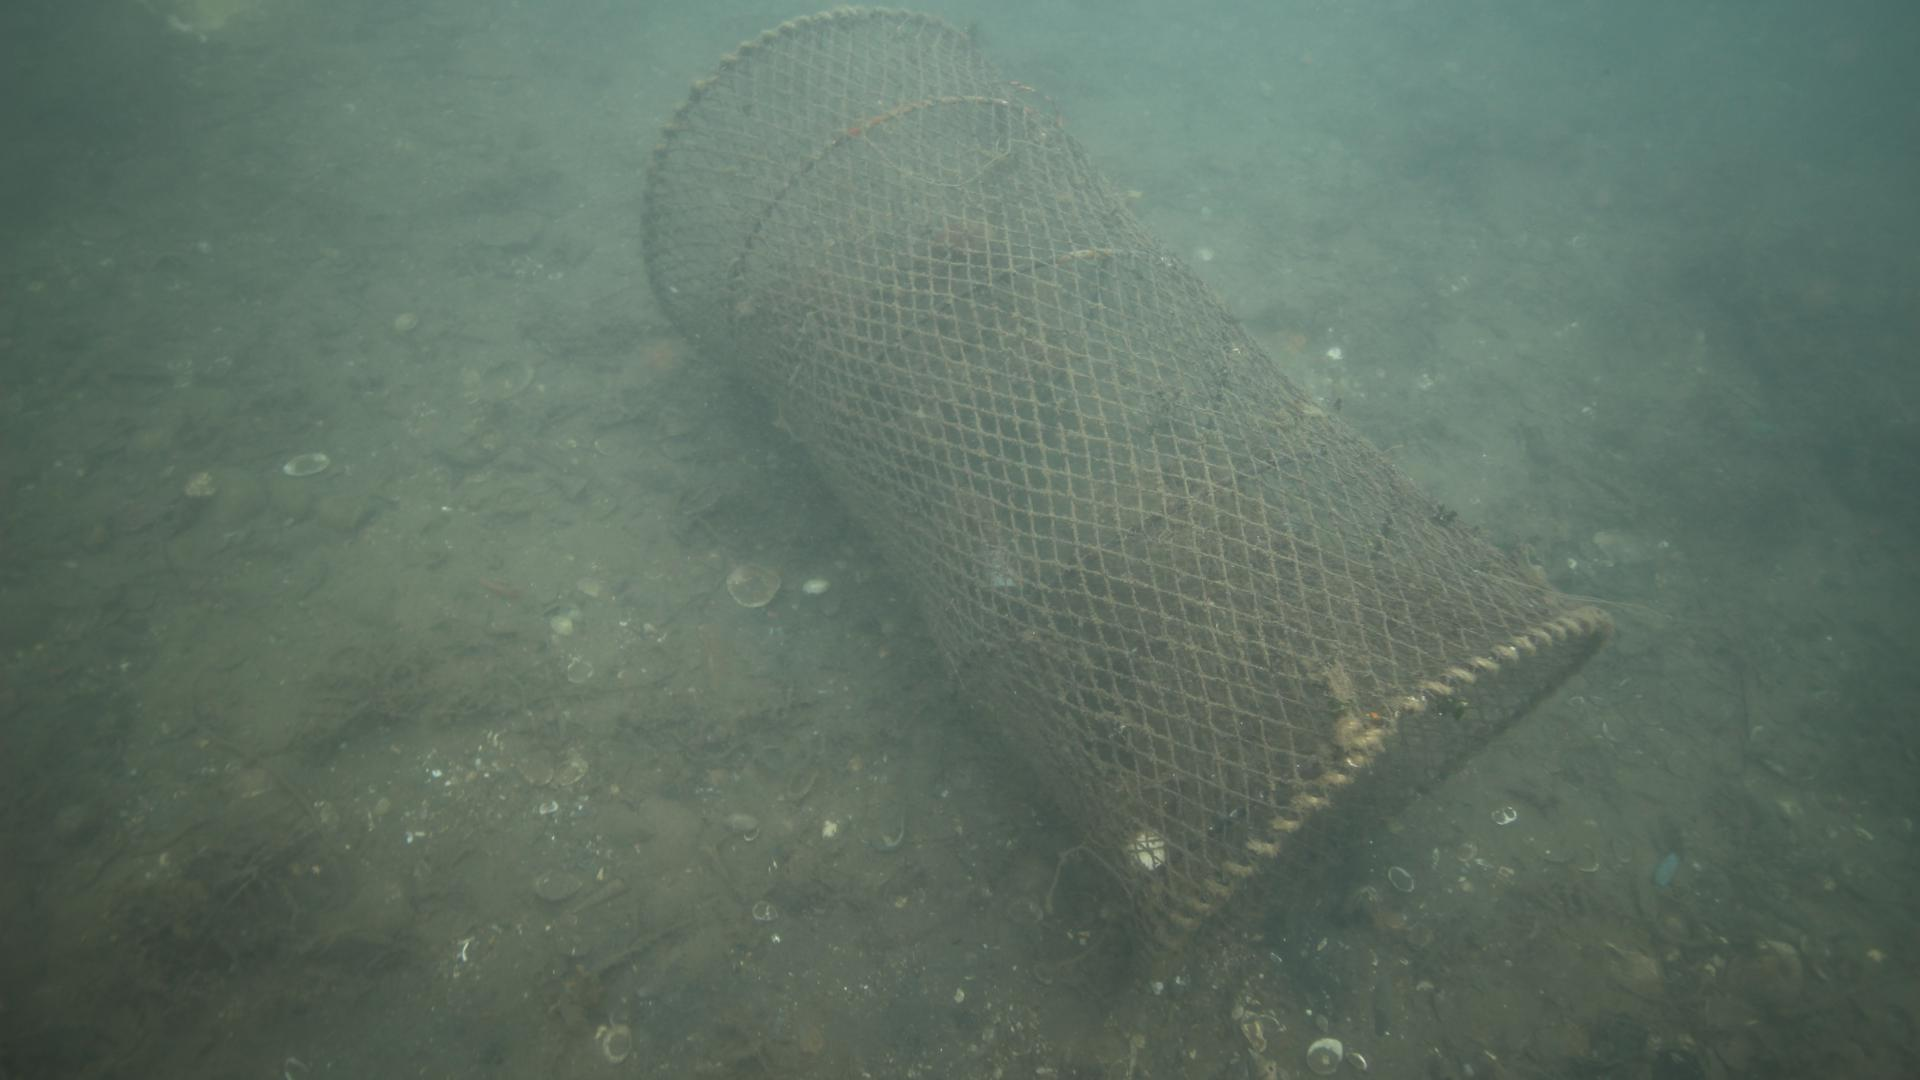spring fish trap: (637, 3, 1610, 947)
